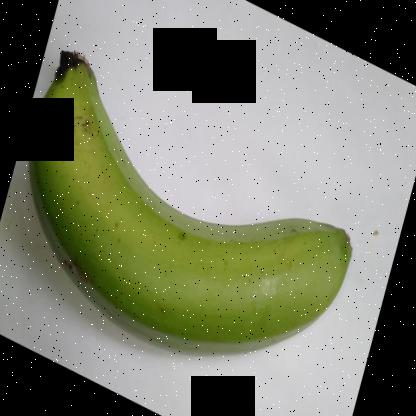freshunripe: (22, 27, 364, 371)
